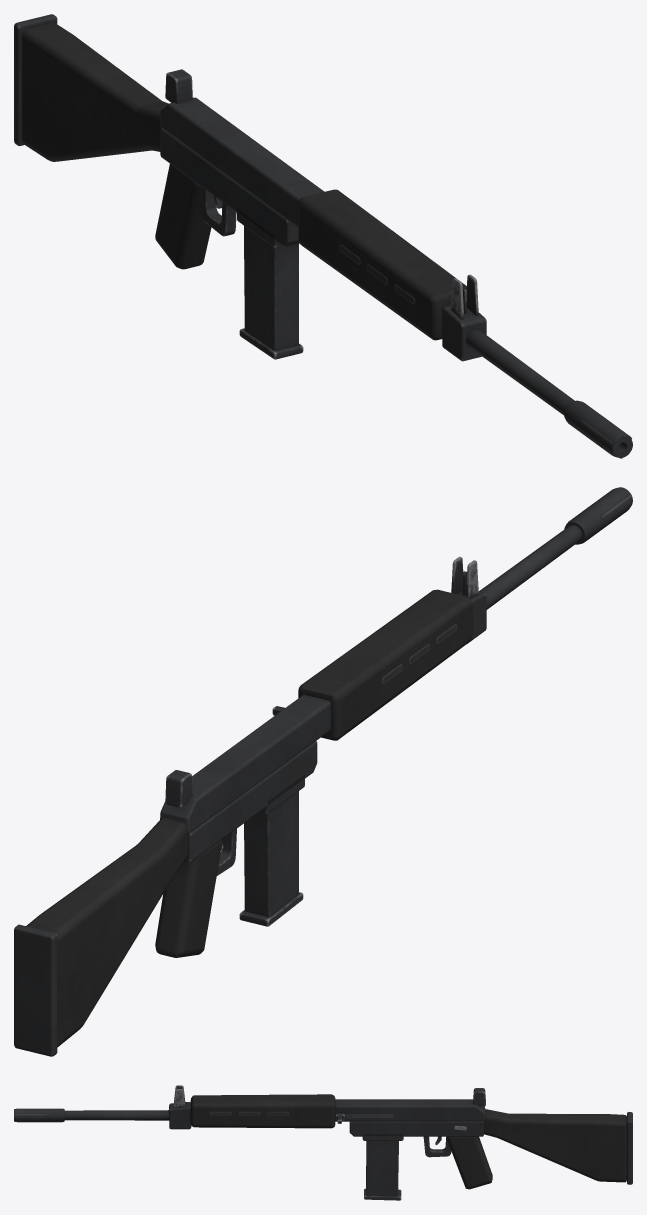
File: dmr_slr.glb
3 views of the same model, one above another, from view 1: azimuth 30°, elevation 25°; view 2: azimuth 150°, elevation 25°; view 3: azimuth 270°, elevation 25° (orthographic). The views are drawn at different scales.
Parts seen in each view (by area): view 1: body, mag_mesh; view 2: body, mag_mesh; view 3: body, mag_mesh.
Boxes of the visible parts, left/top/right/bottom form: body: left=14, top=14, right=632, bottom=458; mag_mesh: left=239, top=226, right=303, bottom=359; body: left=14, top=487, right=632, bottom=1056; mag_mesh: left=239, top=791, right=303, bottom=926; body: left=14, top=1085, right=632, bottom=1189; mag_mesh: left=364, top=1141, right=401, bottom=1200.
Size of the model in its own units: 0.0665 by 0.2234 by 1.14.
1 material, 1 textured.
